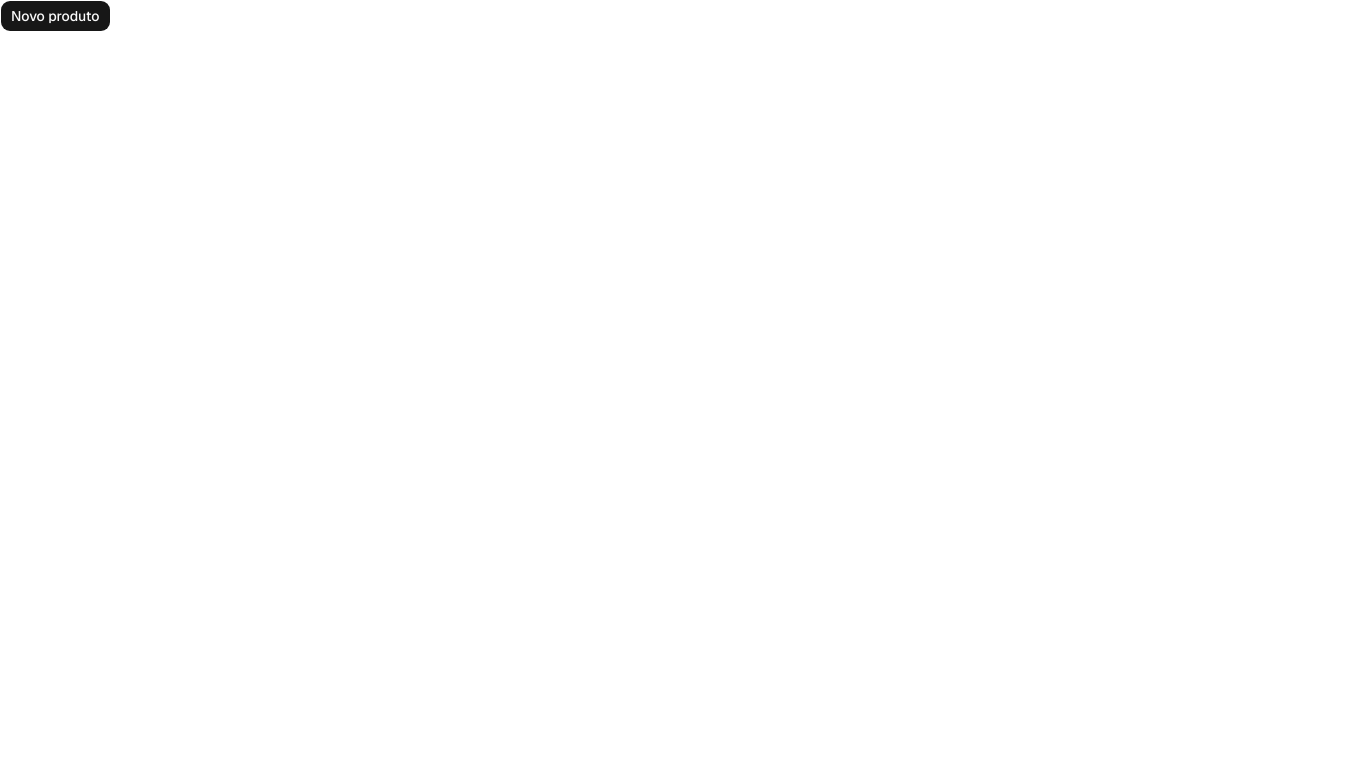
Test: CreateProductDialog › opens with SKU, Nome, Unidade, Categoria and Criar produto
Click the button "Novo produto".
click(55, 16)  # box x1=0 y1=0 x2=110 y2=32
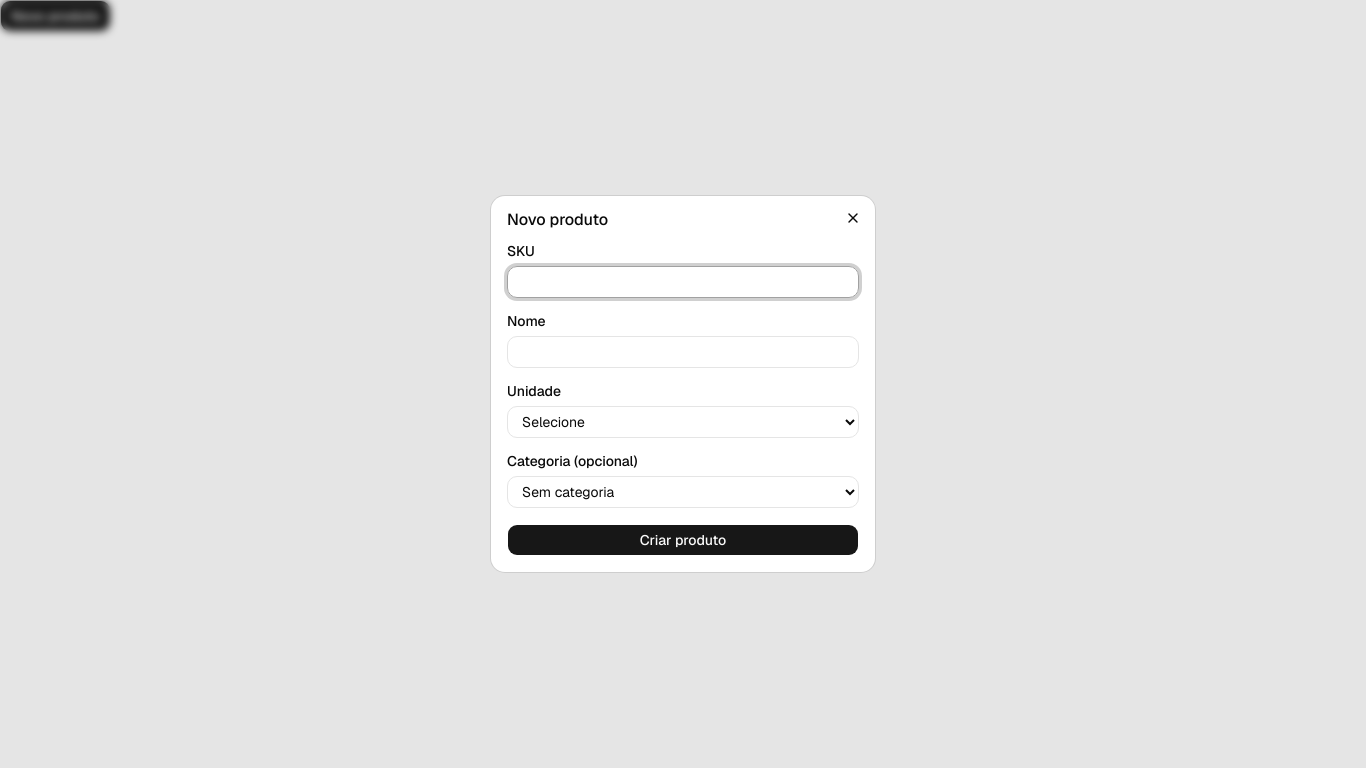
Expected: the dialog is shown, x1=491 y1=196 x2=875 y2=572
Expected: the field labelled "SKU" is shown, x1=507 y1=266 x2=859 y2=298
Expected: the field labelled "Nome" is shown, x1=507 y1=336 x2=859 y2=368
